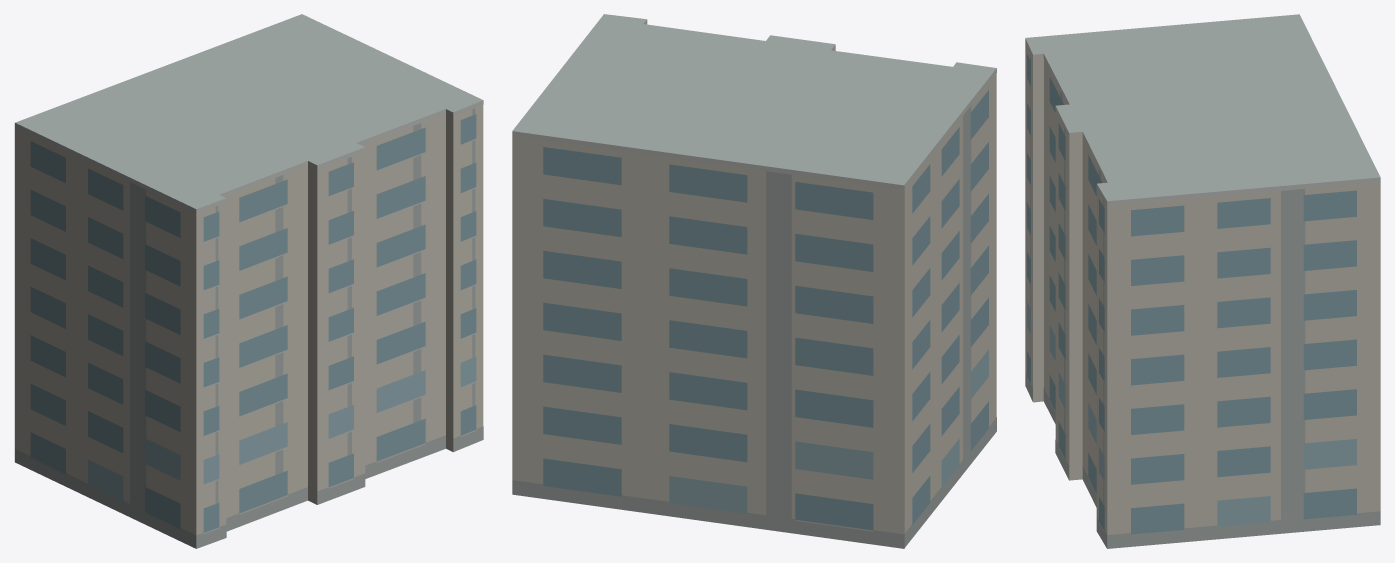
Rendered from survey-upis-32707277.glb.
3 views of the same model, side by side, from view 1: azimuth 30°, elevation 25°; view 2: azimuth 150°, elevation 25°; view 3: azimuth 270°, elevation 25° (orthographic). The views are drawn at different scales.
Visible parts, largest first — view 1: survey-upis-32707277.tmp; view 2: survey-upis-32707277.tmp; view 3: survey-upis-32707277.tmp.
Part boxes in pixels (bbox=[...]): survey-upis-32707277.tmp: bbox=[14, 14, 483, 548]; survey-upis-32707277.tmp: bbox=[512, 14, 996, 548]; survey-upis-32707277.tmp: bbox=[1025, 14, 1380, 548].
Size of the model in its own units: 20.86 by 18.05 by 16.73.
